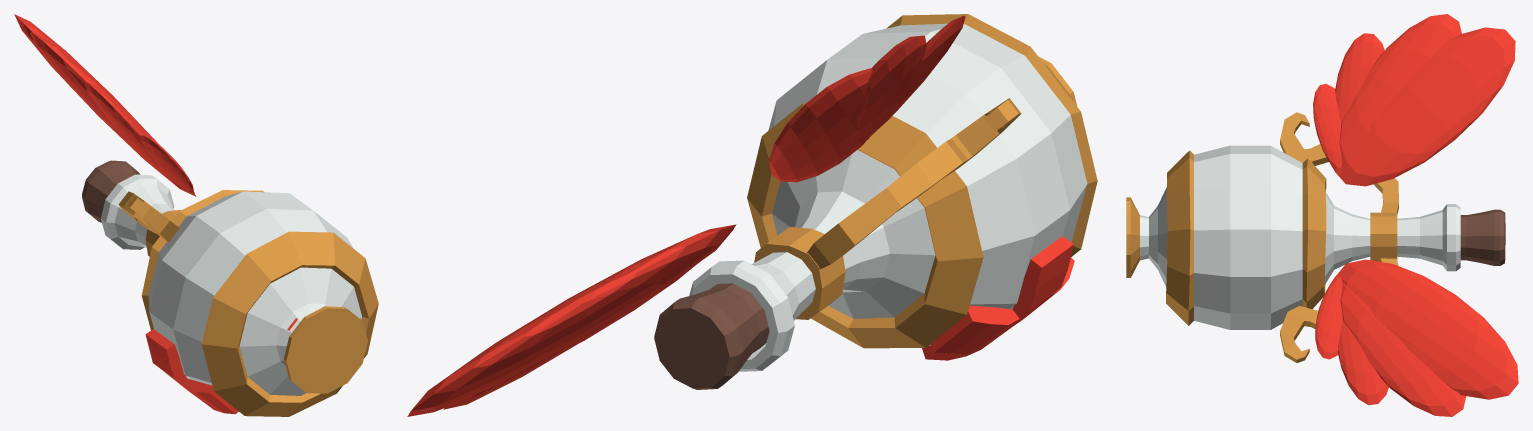
File: Hidden_Healing potion.fbx
The picture shows the model from 3 angles, left to right: view 1: azimuth 30°, elevation 25°; view 2: azimuth 150°, elevation 25°; view 3: azimuth 270°, elevation 25°; orthographic projection. The views are drawn at different scales.
Parts seen in each view (by area): view 1: imagetostl_mesh0, imagetostl_mesh1, imagetostl_mesh22, imagetostl_mesh4, imagetostl_mesh2, imagetostl_mesh9, imagetostl_mesh8; view 2: imagetostl_mesh0, imagetostl_mesh1, imagetostl_mesh21, imagetostl_mesh22, imagetostl_mesh4, imagetostl_mesh2, imagetostl_mesh7, imagetostl_mesh9; view 3: imagetostl_mesh0, imagetostl_mesh22, imagetostl_mesh21, imagetostl_mesh1, imagetostl_mesh4, imagetostl_mesh2, imagetostl_mesh3.
Boxes of the visible parts, bbox=[...] form: imagetostl_mesh0: bbox=[101, 174, 361, 395]; imagetostl_mesh1: bbox=[141, 190, 378, 416]; imagetostl_mesh22: bbox=[14, 14, 196, 196]; imagetostl_mesh4: bbox=[82, 160, 140, 222]; imagetostl_mesh2: bbox=[118, 191, 179, 242]; imagetostl_mesh9: bbox=[145, 329, 186, 384]; imagetostl_mesh8: bbox=[182, 378, 238, 414]; imagetostl_mesh0: bbox=[689, 23, 1087, 371]; imagetostl_mesh1: bbox=[747, 14, 1097, 348]; imagetostl_mesh21: bbox=[407, 224, 736, 416]; imagetostl_mesh22: bbox=[769, 16, 965, 182]; imagetostl_mesh4: bbox=[654, 283, 769, 389]; imagetostl_mesh2: bbox=[807, 98, 1021, 269]; imagetostl_mesh7: bbox=[930, 305, 1019, 354]; imagetostl_mesh9: bbox=[1012, 236, 1073, 318]; imagetostl_mesh0: bbox=[1140, 145, 1460, 329]; imagetostl_mesh22: bbox=[1313, 14, 1515, 186]; imagetostl_mesh21: bbox=[1315, 259, 1518, 416]; imagetostl_mesh1: bbox=[1126, 150, 1397, 325]; imagetostl_mesh4: bbox=[1460, 209, 1505, 265]; imagetostl_mesh2: bbox=[1280, 112, 1398, 213]; imagetostl_mesh3: bbox=[1280, 258, 1398, 362].
Bounding box in the file's own units: 66.59 × 66.04 × 85.68.
